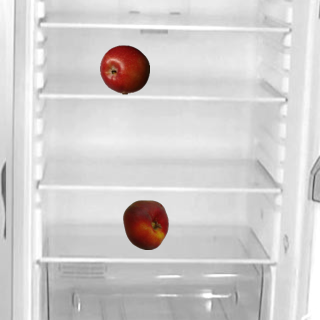Apple Braeburn: (99, 44, 149, 94)
Nectarine Flat: (120, 199, 170, 249)
